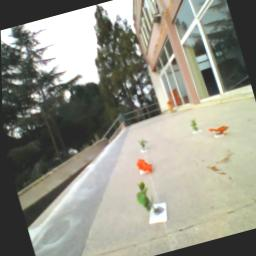herb: (132, 180, 157, 215), (136, 137, 150, 152), (188, 117, 199, 133)
wild: (134, 155, 155, 176), (208, 122, 231, 139)
